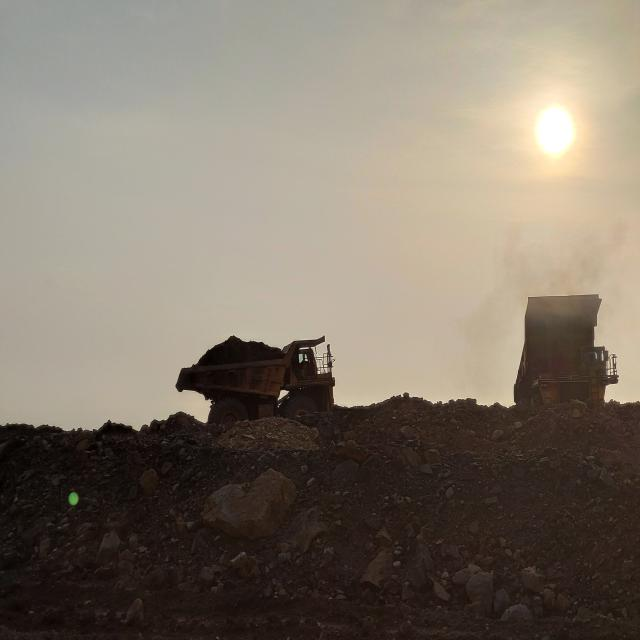dump_truck: (176, 337, 335, 427), (514, 295, 618, 407)
